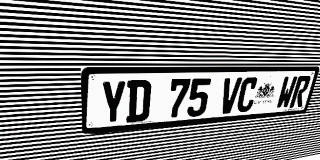5: (186, 78, 211, 117)
7: (166, 79, 191, 119)
C: (235, 77, 259, 113)
D: (126, 80, 152, 123)
R: (289, 76, 312, 108)
V: (218, 77, 242, 114)
W: (275, 76, 298, 109)
Y: (100, 80, 127, 125)
